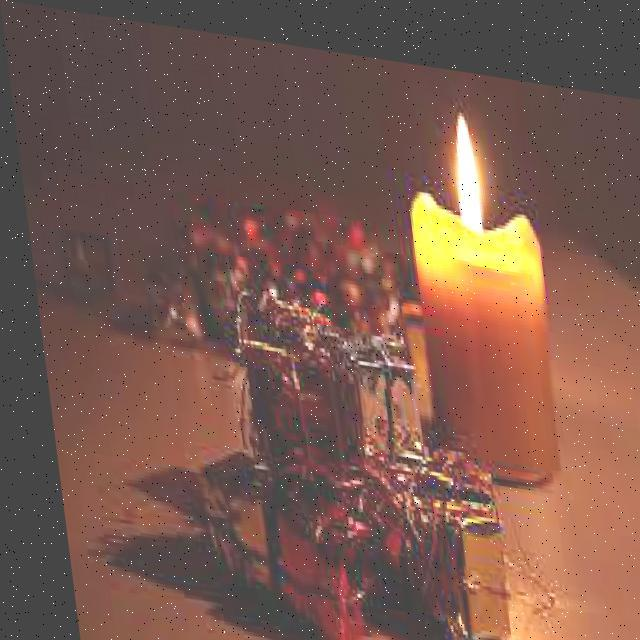Fire: (441, 88, 484, 218)
